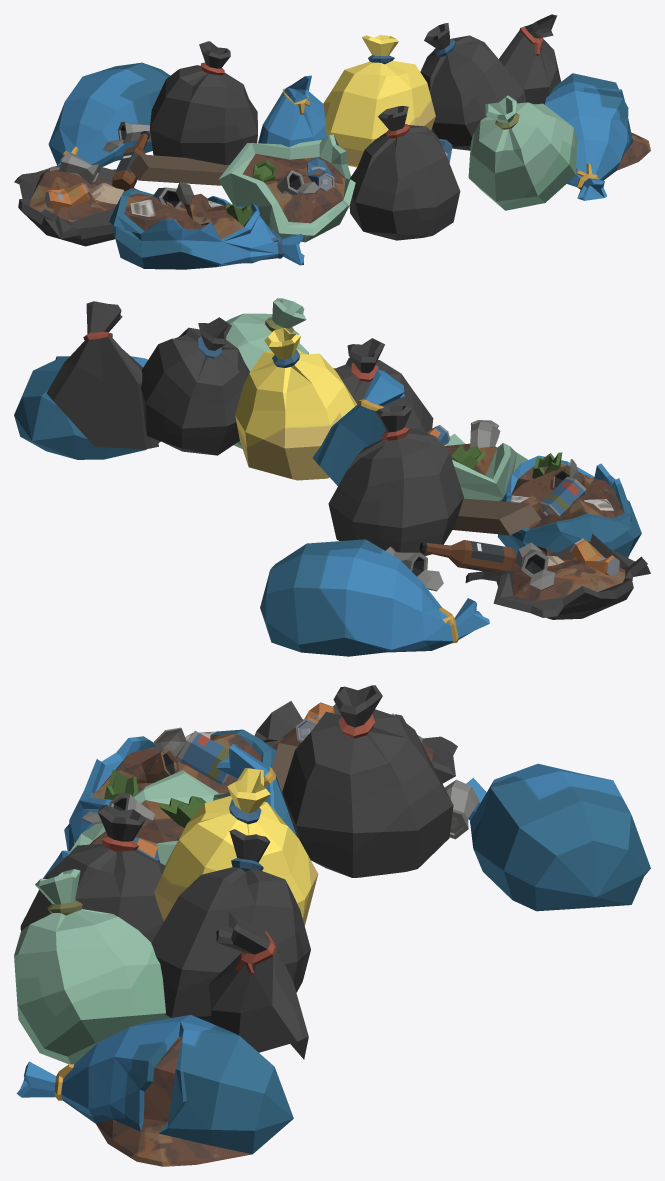
File: SM_Prop_Dumpster_Rubbish_TrashBag_01.obj
The picture shows the model from 3 angles, top to bottom: view 1: azimuth 30°, elevation 25°; view 2: azimuth 150°, elevation 25°; view 3: azimuth 270°, elevation 25°; orthographic projection. The views are drawn at different scales.
Parts seen in each view (by area): view 1: SM_Prop_Dumpster_Rubbish_TrashBag_01_0; view 2: SM_Prop_Dumpster_Rubbish_TrashBag_01_0; view 3: SM_Prop_Dumpster_Rubbish_TrashBag_01_0.
Boxes of the visible parts, left/top/right/bottom form: SM_Prop_Dumpster_Rubbish_TrashBag_01_0: left=14, top=14, right=650, bottom=269; SM_Prop_Dumpster_Rubbish_TrashBag_01_0: left=14, top=298, right=650, bottom=656; SM_Prop_Dumpster_Rubbish_TrashBag_01_0: left=14, top=685, right=650, bottom=1166.
Size of the model in its own units: 3.78 by 0.9772 by 2.46.
Materials: 1 (1 with a texture image).
